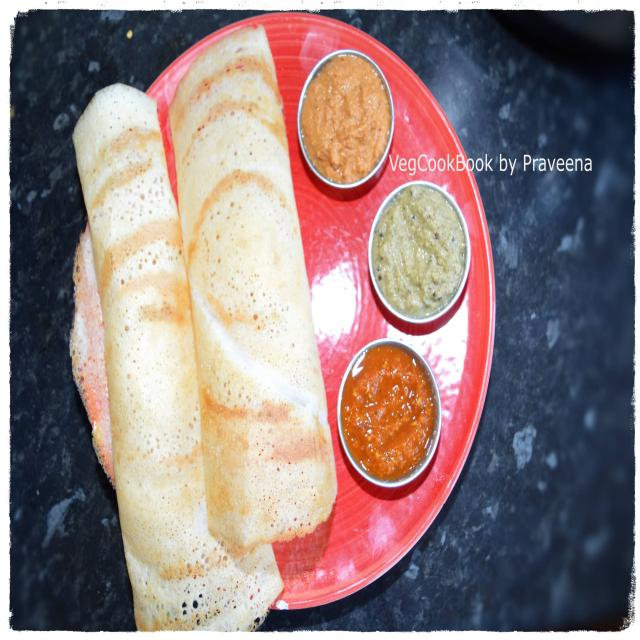plain dosa: (65, 109, 284, 632), (167, 70, 336, 550)
